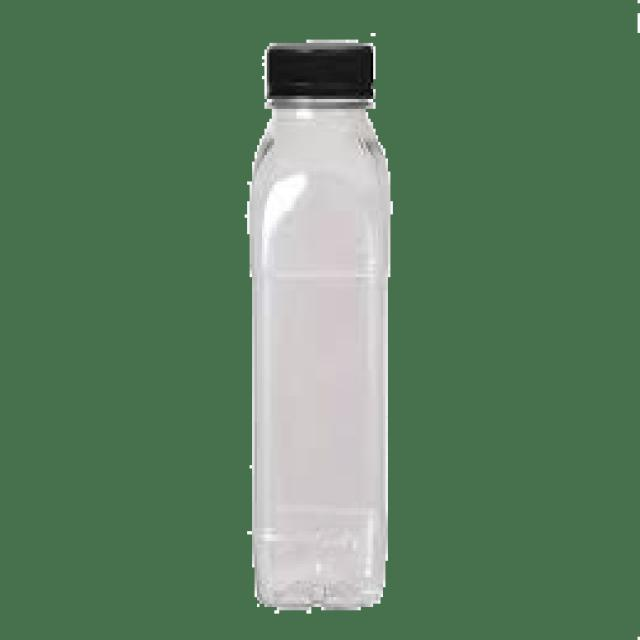bottle: (246, 40, 393, 612)
